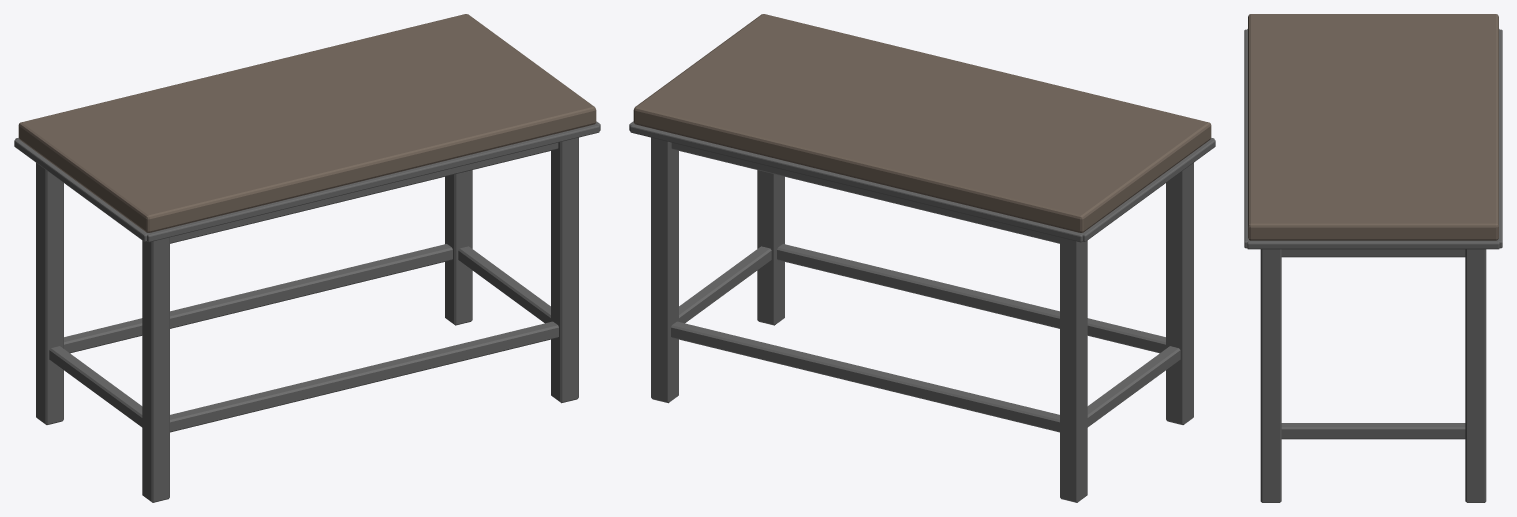
File: table_interrogation.fbx
3 renders of one model, left to right at view 1: azimuth 30°, elevation 25°; view 2: azimuth 150°, elevation 25°; view 3: azimuth 270°, elevation 25°, orthographic. The views are drawn at different scales.
Parts seen in each view (by area): view 1: table_interrogation.top, table_interrogation.leg_4, table_interrogation.stretcher_B, table_interrogation.leg_3, table_interrogation.leg_2, table_interrogation.stretcher_F, table_interrogation.lip_B, table_interrogation.leg_1, table_interrogation.apron_B, table_interrogation.stretcher_R, table_interrogation.stretcher_L, table_interrogation.lip_L; view 2: table_interrogation.top, table_interrogation.leg_2, table_interrogation.stretcher_F, table_interrogation.leg_1, table_interrogation.leg_4, table_interrogation.stretcher_B, table_interrogation.lip_F, table_interrogation.leg_3, table_interrogation.apron_F, table_interrogation.stretcher_L, table_interrogation.stretcher_R, table_interrogation.lip_L; view 3: table_interrogation.top, table_interrogation.leg_1, table_interrogation.leg_3, table_interrogation.stretcher_R, table_interrogation.lip_R, table_interrogation.apron_R, table_interrogation.lip_B, table_interrogation.lip_F.
Boxes of the visible parts, left/top/right/bottom form: table_interrogation.top: left=18, top=14, right=596, bottom=232; table_interrogation.leg_4: left=142, top=237, right=169, bottom=502; table_interrogation.stretcher_B: left=170, top=321, right=558, bottom=432; table_interrogation.leg_3: left=551, top=137, right=578, bottom=403; table_interrogation.leg_2: left=36, top=163, right=63, bottom=424; table_interrogation.stretcher_F: left=64, top=244, right=452, bottom=353; table_interrogation.lip_B: left=147, top=124, right=599, bottom=242; table_interrogation.leg_1: left=445, top=170, right=472, bottom=325; table_interrogation.apron_B: left=145, top=142, right=558, bottom=246; table_interrogation.stretcher_R: left=458, top=246, right=574, bottom=336; table_interrogation.stretcher_L: left=49, top=346, right=164, bottom=436; table_interrogation.lip_L: left=14, top=139, right=148, bottom=241; table_interrogation.top: left=633, top=14, right=1211, bottom=232; table_interrogation.leg_2: left=1060, top=237, right=1087, bottom=502; table_interrogation.stretcher_F: left=671, top=321, right=1085, bottom=435; table_interrogation.leg_1: left=651, top=137, right=678, bottom=403; table_interrogation.leg_4: left=1166, top=163, right=1193, bottom=424; table_interrogation.stretcher_B: left=777, top=244, right=1188, bottom=357; table_interrogation.lip_F: left=630, top=124, right=1082, bottom=242; table_interrogation.leg_3: left=757, top=170, right=784, bottom=325; table_interrogation.apron_F: left=671, top=142, right=1084, bottom=243; table_interrogation.stretcher_L: left=1064, top=346, right=1180, bottom=436; table_interrogation.stretcher_R: left=655, top=246, right=771, bottom=336; table_interrogation.lip_L: left=1081, top=139, right=1215, bottom=241; table_interrogation.top: left=1248, top=14, right=1498, bottom=240; table_interrogation.leg_1: left=1465, top=249, right=1486, bottom=502; table_interrogation.leg_3: left=1260, top=249, right=1281, bottom=502; table_interrogation.stretcher_R: left=1281, top=423, right=1465, bottom=439; table_interrogation.lip_R: left=1247, top=240, right=1499, bottom=249; table_interrogation.apron_R: left=1281, top=249, right=1465, bottom=257; table_interrogation.lip_B: left=1244, top=29, right=1250, bottom=248; table_interrogation.lip_F: left=1497, top=29, right=1502, bottom=248.
Bounding box in the file's own units: 1.22 × 0.75 × 0.618.
